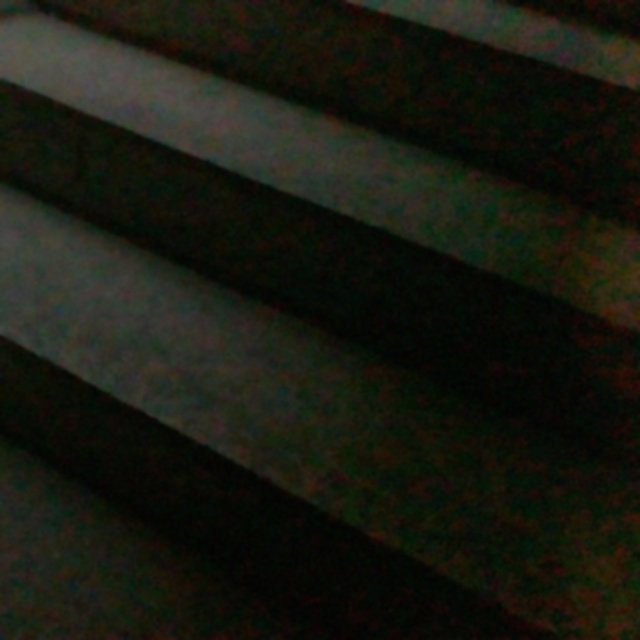stair: (25, 29, 637, 567)
